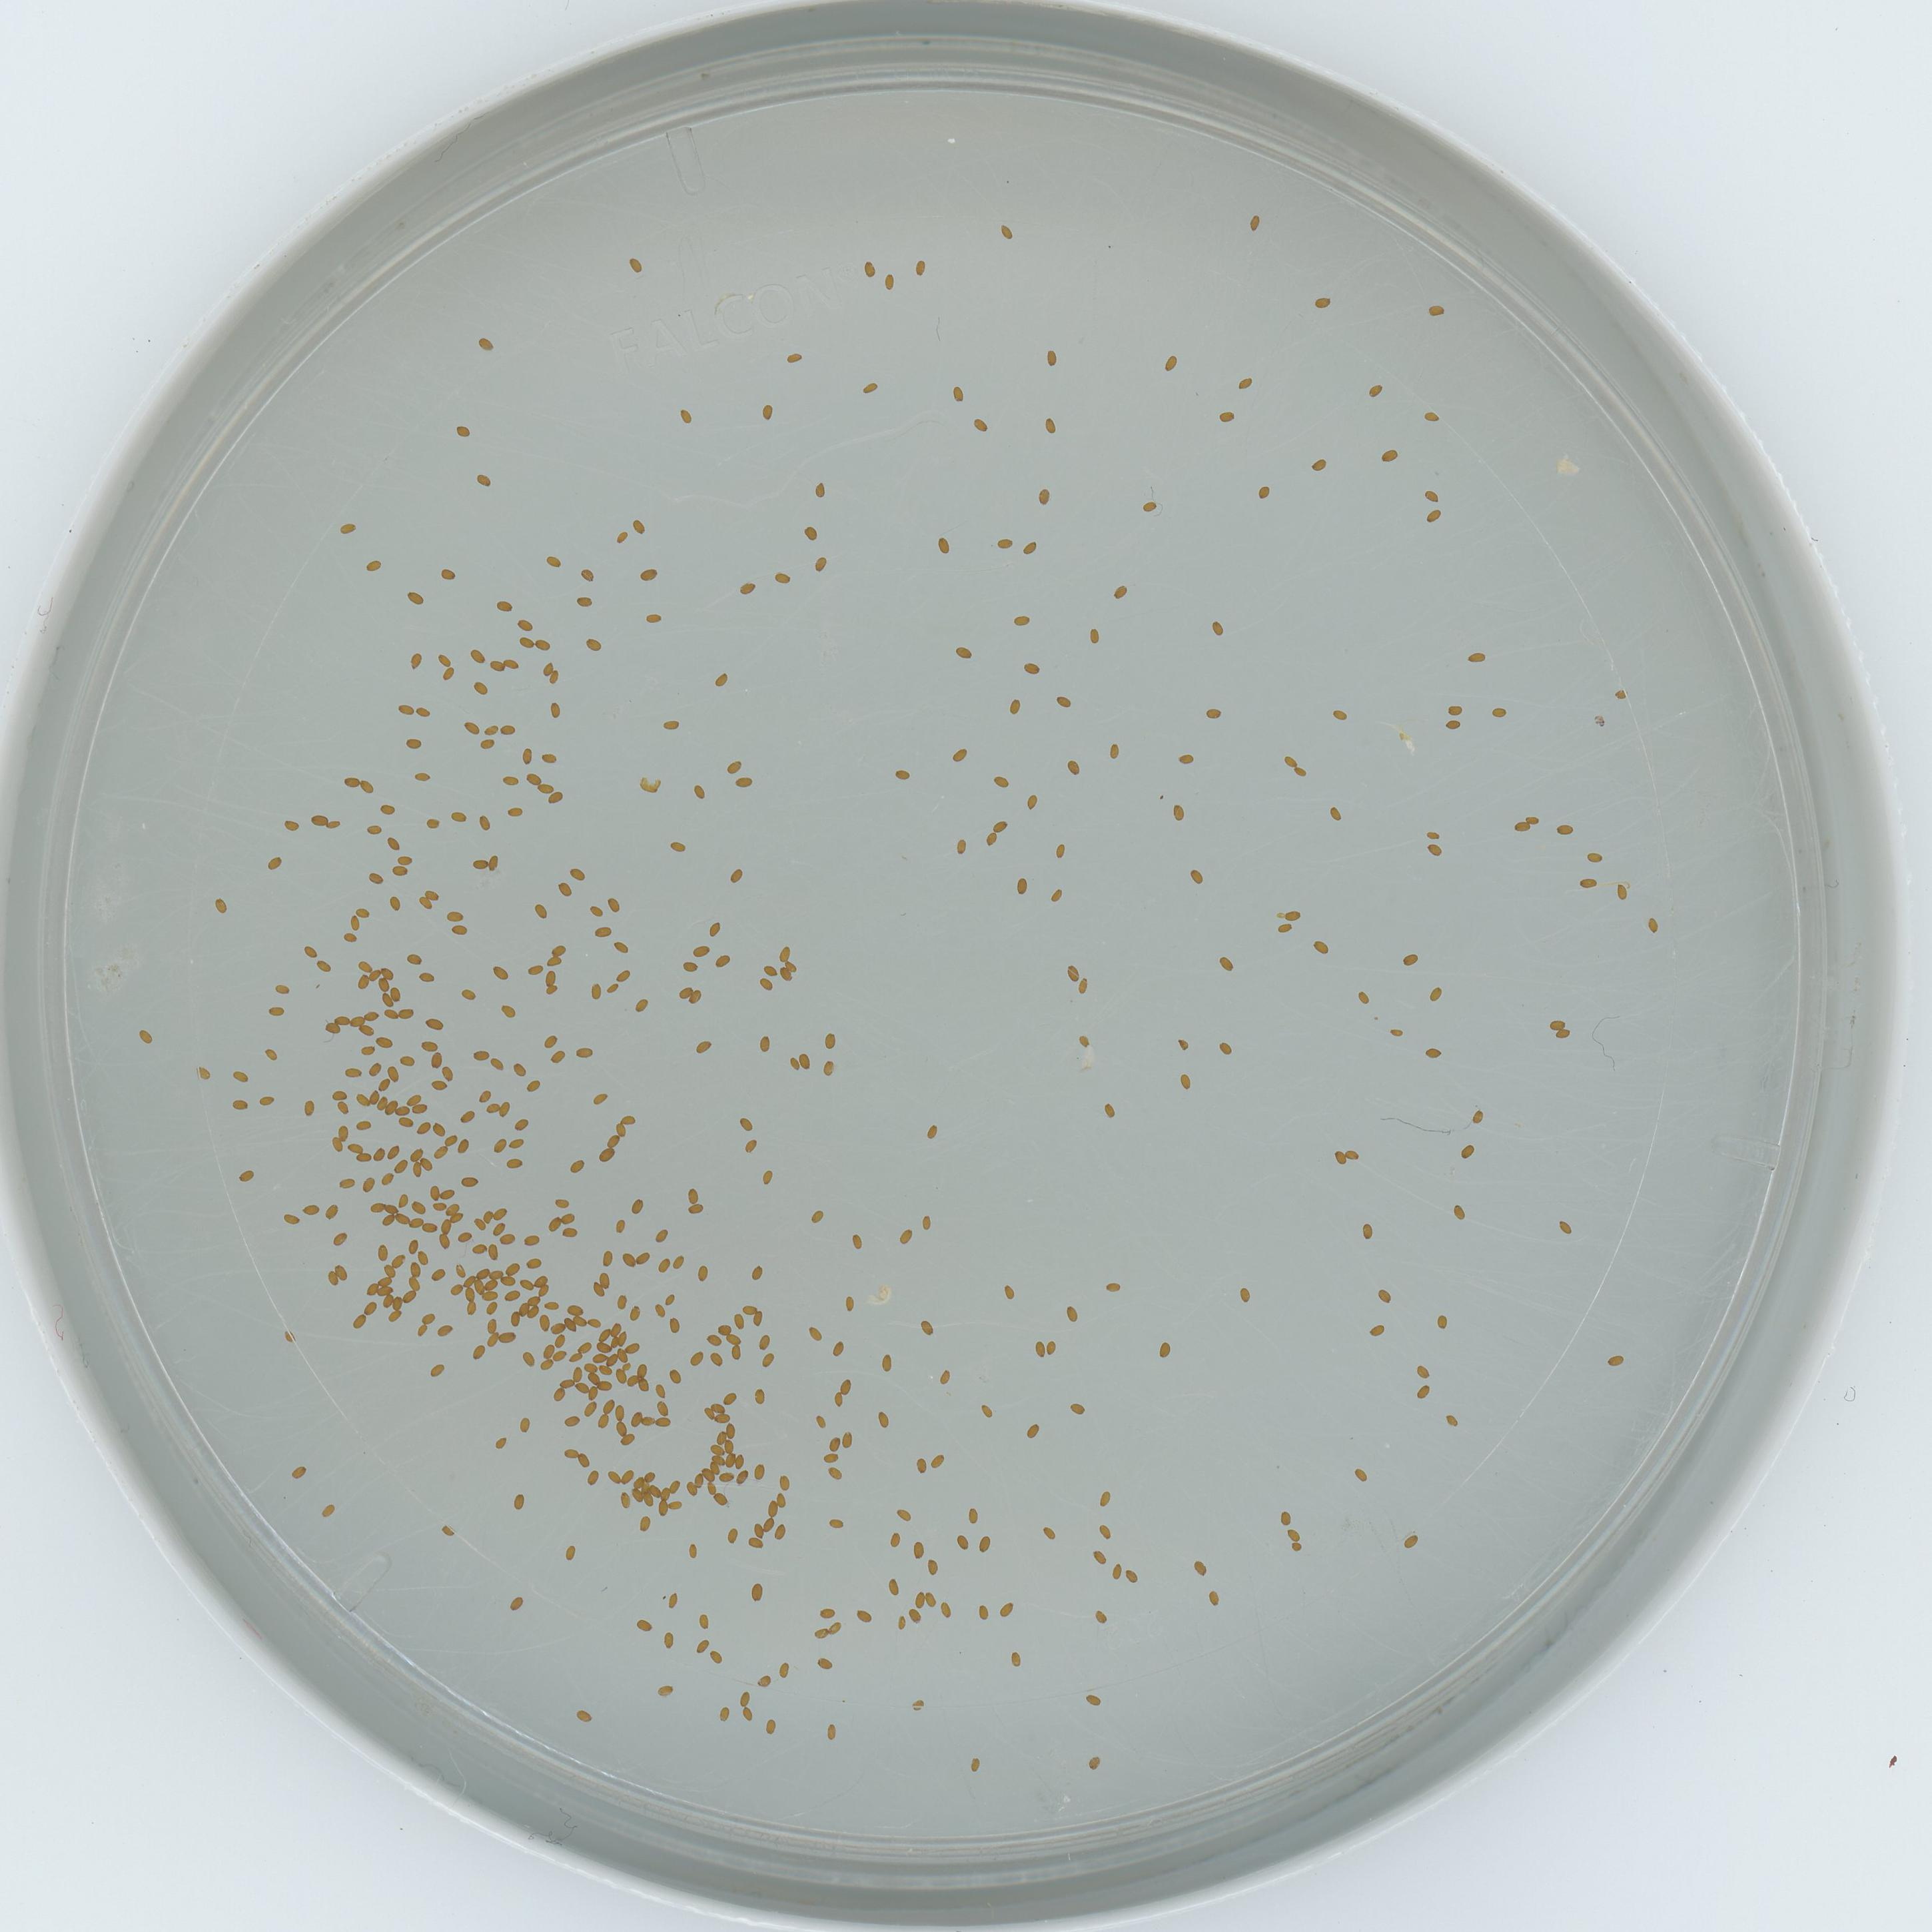seed: (747, 1580, 768, 1601), (1357, 1219, 1376, 1242), (1214, 954, 1237, 971), (483, 1299, 502, 1318), (1311, 936, 1330, 955), (973, 1532, 993, 1552), (405, 587, 426, 605), (639, 564, 660, 582), (1449, 1201, 1467, 1223), (690, 941, 713, 957), (556, 881, 575, 899), (531, 902, 550, 920), (594, 922, 614, 939), (264, 855, 283, 872), (469, 1343, 487, 1362), (755, 1332, 775, 1350), (755, 1035, 775, 1053), (952, 1532, 970, 1552), (1578, 874, 1598, 892), (1247, 212, 1265, 232), (1433, 1311, 1453, 1329), (1090, 1546, 1108, 1566), (313, 957, 334, 973), (879, 1352, 895, 1373), (740, 1299, 761, 1315), (334, 1261, 349, 1284), (518, 747, 536, 764), (515, 616, 533, 633), (495, 596, 513, 614), (934, 536, 952, 554), (364, 556, 382, 573), (605, 895, 623, 913), (547, 701, 564, 718), (759, 402, 777, 419), (446, 906, 464, 924), (575, 593, 593, 610), (384, 835, 402, 853), (499, 1327, 517, 1345), (554, 1192, 571, 1210), (513, 1113, 531, 1131), (717, 1706, 734, 1723), (345, 1062, 363, 1079), (373, 1242, 391, 1260), (517, 1415, 534, 1433), (510, 1491, 527, 1509), (584, 1468, 602, 1486), (886, 1576, 904, 1594), (807, 1323, 824, 1341), (522, 1230, 540, 1247), (849, 1231, 867, 1249), (830, 1391, 847, 1408), (568, 1155, 586, 1173), (476, 1085, 494, 1102), (660, 1631, 678, 1649), (561, 1543, 579, 1560), (428, 1361, 446, 1378), (653, 1398, 671, 1415), (695, 1612, 713, 1629), (628, 1196, 646, 1214), (419, 1219, 437, 1237), (499, 1230, 517, 1247), (1401, 948, 1419, 966), (1012, 878, 1030, 895), (1161, 354, 1178, 372), (1424, 506, 1442, 524), (1109, 582, 1127, 600), (1458, 1139, 1476, 1157), (1415, 1382, 1433, 1399), (1093, 1522, 1111, 1539), (1205, 1591, 1223, 1608), (996, 1599, 1014, 1617), (1062, 1304, 1079, 1322), (1093, 1490, 1111, 1507), (1612, 685, 1629, 702), (1422, 407, 1440, 425), (386, 895, 405, 911), (469, 649, 488, 665), (524, 771, 543, 787), (462, 720, 481, 736), (612, 938, 632, 954), (801, 524, 821, 540), (690, 784, 709, 800), (340, 931, 359, 947), (550, 939, 570, 955), (308, 812, 327, 828), (471, 679, 490, 695), (899, 1226, 915, 1246), (460, 1171, 479, 1187), (909, 1541, 929, 1557), (469, 1240, 488, 1256), (855, 1606, 874, 1622), (510, 1060, 529, 1076), (589, 982, 605, 1001), (566, 1299, 586, 1315), (428, 1076, 448, 1092), (575, 1707, 594, 1723), (823, 1031, 839, 1051), (428, 1049, 444, 1069), (386, 1063, 402, 1083), (1039, 416, 1058, 432), (1606, 1350, 1626, 1366), (1177, 1072, 1192, 1092), (881, 271, 895, 292), (407, 651, 421, 672), (1021, 662, 1042, 676), (405, 734, 423, 750), (911, 258, 927, 276), (568, 867, 586, 883), (814, 556, 832, 571), (338, 520, 356, 536), (862, 260, 878, 278), (212, 897, 230, 913), (476, 472, 494, 488), (630, 517, 648, 533), (502, 773, 520, 789), (775, 570, 793, 586), (439, 667, 456, 683), (628, 257, 646, 272), (439, 566, 456, 582), (706, 920, 724, 936), (740, 580, 757, 596), (471, 856, 488, 872), (478, 738, 495, 754), (396, 702, 414, 718), (586, 637, 603, 653), (499, 722, 517, 738), (476, 816, 494, 832), (508, 803, 524, 821), (545, 554, 563, 570), (547, 791, 564, 807), (736, 775, 754, 791), (423, 816, 441, 832), (453, 423, 471, 439), (862, 379, 879, 395), (517, 635, 534, 651), (777, 945, 793, 962), (481, 722, 499, 738), (812, 481, 830, 497), (379, 801, 396, 817), (524, 1254, 541, 1270), (619, 1251, 637, 1267), (598, 1146, 616, 1162), (575, 1042, 593, 1058), (895, 1506, 911, 1523), (435, 1233, 453, 1249), (472, 1044, 490, 1060), (826, 1435, 842, 1453), (704, 1332, 722, 1348), (267, 1003, 285, 1019), (510, 1594, 525, 1612), (435, 1322, 453, 1338), (667, 1368, 685, 1384), (366, 1062, 384, 1077), (334, 1099, 352, 1115), (888, 1530, 904, 1548), (708, 1649, 725, 1665), (506, 1155, 524, 1171), (237, 1166, 255, 1182), (775, 1661, 793, 1677), (419, 1035, 437, 1051), (688, 1350, 706, 1366), (763, 1720, 780, 1736), (414, 1118, 432, 1134), (331, 1085, 349, 1100), (582, 1401, 600, 1417), (257, 1090, 274, 1106), (635, 1617, 653, 1633), (819, 1605, 837, 1621), (817, 1654, 833, 1672), (548, 1047, 566, 1063), (561, 1444, 579, 1460), (301, 1201, 318, 1217), (878, 1410, 893, 1428), (375, 1031, 393, 1047), (936, 1368, 954, 1384), (695, 1037, 713, 1053), (929, 1453, 947, 1468), (375, 1074, 391, 1092), (354, 1116, 372, 1132), (439, 1063, 456, 1079), (656, 1256, 672, 1274), (488, 1054, 506, 1070), (425, 1014, 442, 1030), (492, 966, 510, 982), (232, 1065, 248, 1083), (455, 1228, 472, 1244), (402, 1290, 419, 1306), (663, 1592, 681, 1608), (632, 996, 649, 1012), (458, 1106, 476, 1122), (665, 1316, 683, 1332), (524, 1076, 541, 1092), (924, 1557, 939, 1575), (361, 1177, 379, 1192), (637, 1514, 653, 1532), (713, 1491, 731, 1507), (656, 1683, 674, 1698), (752, 1387, 770, 1403), (695, 1263, 711, 1281), (361, 1299, 379, 1315), (398, 1051, 416, 1067), (686, 1201, 704, 1217), (832, 1339, 847, 1357), (136, 1026, 154, 1042), (331, 1228, 349, 1244), (403, 1238, 421, 1254), (605, 1468, 623, 1484), (918, 1316, 936, 1332), (462, 1300, 479, 1316), (1445, 702, 1463, 718), (1380, 446, 1398, 462), (1422, 488, 1440, 504), (991, 817, 1008, 833), (1012, 612, 1030, 628), (1049, 844, 1067, 860), (1187, 870, 1205, 886), (1555, 821, 1573, 837), (1203, 704, 1221, 720), (1168, 805, 1185, 821), (991, 775, 1008, 791), (1063, 759, 1081, 775), (1217, 407, 1235, 423), (1490, 704, 1507, 720), (1104, 743, 1122, 759), (1325, 805, 1343, 821), (1085, 628, 1100, 646), (1237, 373, 1253, 391), (1042, 349, 1058, 366), (1366, 380, 1384, 396), (1313, 294, 1330, 310), (1021, 540, 1037, 557), (1122, 1568, 1139, 1583), (1403, 1532, 1419, 1550), (1414, 1362, 1431, 1378), (1235, 1286, 1253, 1302), (978, 1403, 996, 1419), (1155, 1341, 1173, 1357), (1008, 1651, 1024, 1668), (1276, 1509, 1293, 1525), (1387, 1023, 1405, 1039), (1000, 1283, 1017, 1299), (1106, 1564, 1122, 1582), (1376, 1286, 1392, 1304), (1039, 1525, 1056, 1541), (1173, 1037, 1191, 1053), (821, 1060, 837, 1077), (441, 1522, 458, 1537), (752, 1461, 766, 1481), (525, 1304, 540, 1323), (732, 1311, 747, 1330), (416, 704, 432, 720), (713, 672, 729, 688), (366, 872, 382, 888), (663, 717, 679, 732), (359, 780, 375, 796), (729, 869, 745, 885), (283, 819, 299, 835), (646, 609, 662, 625), (950, 747, 966, 763), (727, 759, 743, 775), (895, 766, 911, 782), (437, 651, 453, 667), (950, 386, 966, 402), (787, 349, 803, 364), (354, 904, 370, 920), (580, 566, 596, 582), (715, 952, 731, 968), (541, 750, 557, 766), (478, 334, 494, 350), (671, 839, 686, 855), (955, 646, 971, 662), (366, 823, 382, 839), (345, 915, 361, 931), (326, 817, 341, 833), (494, 1433, 510, 1449), (359, 1040, 375, 1056), (759, 1674, 775, 1690), (368, 1198, 384, 1214), (232, 1095, 248, 1111), (487, 1244, 502, 1260), (685, 1187, 701, 1203), (292, 1463, 308, 1479), (501, 1001, 517, 1017), (777, 1474, 793, 1490), (510, 1134, 525, 1150), (272, 980, 288, 996), (338, 1173, 354, 1189), (842, 1431, 858, 1447), (842, 1295, 858, 1311), (354, 973, 370, 989), (908, 1608, 924, 1624), (543, 1295, 559, 1311), (485, 1316, 501, 1332), (722, 1389, 738, 1405), (577, 1453, 593, 1468), (938, 1601, 954, 1617), (494, 1203, 510, 1219), (283, 1208, 299, 1224), (653, 1302, 669, 1318), (545, 1214, 561, 1230), (561, 1208, 577, 1224), (564, 1412, 580, 1428), (814, 1414, 830, 1430), (492, 1221, 508, 1237), (614, 1293, 630, 1309), (563, 1224, 579, 1240), (324, 1203, 340, 1219), (725, 1527, 741, 1543), (918, 1214, 934, 1230), (485, 1100, 501, 1116), (893, 1615, 909, 1631), (828, 1465, 844, 1481), (823, 1449, 839, 1465), (196, 1063, 212, 1079), (600, 1249, 616, 1265), (395, 1191, 410, 1207), (635, 1361, 651, 1376), (740, 1707, 755, 1723), (492, 1138, 508, 1154), (828, 1516, 844, 1532), (672, 1253, 688, 1269), (301, 1099, 317, 1115), (589, 1283, 605, 1299), (619, 1468, 635, 1484), (729, 1346, 745, 1362), (718, 1468, 734, 1484), (612, 1217, 628, 1233), (913, 1456, 929, 1472), (327, 1136, 343, 1152), (736, 1691, 752, 1707), (410, 1198, 426, 1214), (587, 1313, 603, 1329), (798, 1053, 814, 1069), (750, 1265, 766, 1281), (738, 1115, 754, 1131), (761, 1352, 777, 1368), (826, 1725, 842, 1741), (350, 1313, 366, 1329), (543, 982, 559, 998), (540, 1343, 556, 1359), (616, 1491, 632, 1507), (380, 966, 396, 982), (456, 1138, 472, 1154), (709, 1350, 725, 1366), (924, 1122, 939, 1138), (471, 1217, 487, 1233), (771, 1525, 787, 1541), (810, 1207, 826, 1223), (656, 1414, 672, 1430), (483, 1332, 499, 1348), (536, 1315, 552, 1330), (497, 1100, 513, 1116), (391, 1253, 407, 1269), (564, 1316, 580, 1332), (407, 1276, 423, 1292), (701, 1467, 717, 1483), (405, 1090, 421, 1106), (1284, 906, 1300, 922), (1645, 916, 1661, 932), (1007, 699, 1023, 715), (1033, 488, 1049, 504), (1054, 694, 1070, 709), (1208, 621, 1224, 637), (1177, 750, 1192, 766), (1614, 885, 1629, 901), (1468, 648, 1484, 663), (1023, 794, 1039, 810), (982, 832, 998, 847), (1047, 888, 1063, 904), (998, 223, 1014, 239), (1368, 1320, 1384, 1336), (1063, 966, 1079, 982), (1470, 1106, 1486, 1122), (1557, 1219, 1573, 1235), (1023, 1422, 1039, 1438), (1031, 1341, 1047, 1357), (1428, 987, 1444, 1003), (1067, 1399, 1083, 1415), (1192, 1560, 1208, 1576), (975, 1603, 991, 1619), (1100, 1100, 1116, 1116), (1345, 1145, 1361, 1161), (1085, 1755, 1100, 1771), (1104, 1277, 1120, 1293), (1424, 1044, 1440, 1060), (1217, 1039, 1233, 1054), (911, 1695, 927, 1711), (283, 1330, 299, 1346), (587, 904, 605, 918), (405, 950, 423, 964), (487, 855, 501, 872), (449, 810, 467, 824), (451, 922, 469, 936), (488, 660, 506, 674), (694, 1638, 711, 1652), (761, 1168, 775, 1185), (913, 1591, 927, 1608), (432, 1120, 446, 1138), (262, 1046, 280, 1060), (357, 1023, 375, 1037), (653, 1228, 671, 1242), (432, 1265, 446, 1283), (747, 1537, 764, 1552), (333, 1010, 350, 1024), (363, 1007, 380, 1021), (336, 1123, 350, 1141), (419, 1155, 433, 1173), (525, 962, 543, 977), (389, 985, 403, 1003), (839, 1376, 853, 1394), (410, 1099, 428, 1113), (628, 1304, 642, 1322), (766, 1500, 780, 1518), (395, 1102, 412, 1116), (616, 1122, 630, 1139), (1587, 851, 1605, 865), (1444, 718, 1461, 732), (1426, 844, 1444, 858), (1139, 499, 1157, 513), (996, 536, 1014, 550), (971, 418, 989, 432), (1274, 920, 1292, 934), (1353, 989, 1371, 1003), (1083, 1693, 1100, 1707), (453, 1260, 467, 1277), (545, 955, 564, 968), (303, 943, 318, 957), (534, 637, 550, 651), (343, 775, 359, 789), (414, 770, 430, 784), (391, 867, 412, 878), (396, 853, 412, 867), (952, 839, 966, 855), (678, 409, 694, 423), (504, 656, 520, 671), (460, 987, 476, 1001), (426, 1185, 441, 1201), (421, 1309, 437, 1323), (504, 1261, 520, 1276), (540, 1359, 556, 1373), (520, 1352, 536, 1366), (396, 1116, 412, 1131), (419, 970, 435, 984), (734, 1470, 750, 1484), (685, 1543, 701, 1557), (400, 1005, 416, 1019), (663, 1290, 679, 1304), (725, 1332, 741, 1346), (678, 984, 692, 1000), (596, 1414, 610, 1430), (605, 980, 621, 994), (379, 1171, 395, 1185), (743, 1138, 759, 1152), (616, 968, 632, 982), (626, 1339, 642, 1353), (607, 1132, 623, 1146), (418, 1249, 432, 1265), (669, 1497, 683, 1513), (391, 1159, 407, 1173), (761, 1518, 775, 1534), (925, 1591, 939, 1606), (380, 1261, 396, 1276), (356, 1150, 372, 1164), (379, 1214, 395, 1228), (600, 1270, 614, 1286), (389, 1143, 405, 1157), (379, 993, 395, 1007), (717, 1322, 732, 1336), (621, 1109, 637, 1123), (543, 1033, 559, 1047), (752, 1311, 766, 1327), (370, 1146, 386, 1161), (442, 1131, 458, 1145), (441, 1184, 456, 1198), (653, 1384, 669, 1398), (320, 1502, 336, 1516), (591, 1090, 607, 1104), (504, 1286, 520, 1300), (550, 1387, 566, 1401), (380, 1007, 396, 1021), (568, 1350, 584, 1364), (669, 1477, 683, 1493), (702, 1483, 718, 1497), (412, 1323, 428, 1338), (586, 1385, 602, 1399), (577, 1339, 593, 1353), (386, 1309, 402, 1323), (407, 1215, 423, 1230), (626, 1412, 642, 1426), (685, 1479, 699, 1495), (324, 1270, 338, 1286), (363, 1281, 379, 1295), (778, 968, 794, 982), (640, 1414, 656, 1428), (637, 1378, 653, 1392), (349, 1014, 364, 1028), (375, 977, 391, 991), (786, 1054, 800, 1070), (464, 1286, 478, 1302), (713, 1430, 727, 1445), (1424, 828, 1440, 842), (1527, 812, 1543, 826), (1330, 708, 1346, 722), (1311, 456, 1327, 471), (1256, 485, 1270, 501), (1514, 821, 1530, 835), (1281, 754, 1297, 768), (1428, 301, 1444, 315), (1042, 1339, 1056, 1355), (1330, 1148, 1346, 1162), (1284, 1527, 1300, 1541), (1076, 977, 1090, 993), (1092, 1610, 1108, 1624), (1353, 1467, 1369, 1481), (1074, 1033, 1090, 1047), (966, 1509, 980, 1525), (968, 1757, 982, 1773), (1444, 1412, 1460, 1426), (812, 1626, 828, 1640), (828, 1621, 842, 1637), (391, 1293, 405, 1309), (425, 888, 442, 901), (536, 782, 554, 794), (777, 1491, 789, 1509), (616, 1419, 628, 1437), (708, 1401, 725, 1414), (614, 1403, 626, 1421), (548, 1322, 566, 1334), (660, 1486, 672, 1504), (708, 1444, 725, 1456), (1548, 1016, 1566, 1028), (1553, 1026, 1571, 1039), (472, 1277, 485, 1295), (614, 529, 628, 543), (540, 662, 554, 676), (637, 1249, 651, 1263), (448, 1281, 462, 1295), (761, 977, 775, 991), (690, 989, 704, 1003), (543, 971, 557, 985), (433, 1145, 448, 1159), (554, 1332, 568, 1346), (534, 1272, 548, 1286), (655, 1502, 669, 1516), (354, 1092, 368, 1106), (724, 1424, 738, 1438), (409, 1146, 423, 1161), (724, 1438, 738, 1453), (570, 1368, 584, 1382), (752, 1523, 766, 1537), (614, 1369, 628, 1384), (446, 1201, 460, 1215), (617, 1350, 632, 1364), (416, 897, 432, 909), (324, 1021, 340, 1033), (430, 1200, 446, 1212), (734, 1453, 747, 1468), (501, 1274, 517, 1286), (508, 1311, 520, 1327), (596, 1327, 612, 1339), (382, 1201, 398, 1214), (683, 962, 699, 975), (575, 1380, 591, 1392), (621, 1433, 637, 1445), (594, 1341, 610, 1353), (586, 1371, 602, 1384), (368, 1090, 380, 1106), (536, 1284, 552, 1297), (474, 1265, 490, 1277), (630, 1490, 642, 1506), (382, 1293, 395, 1309), (357, 961, 373, 973), (1288, 1541, 1304, 1553), (649, 1484, 662, 1500), (377, 1095, 389, 1111), (345, 1145, 366, 1154), (386, 1099, 396, 1116), (548, 672, 563, 685), (395, 1212, 409, 1224), (559, 1376, 573, 1389), (441, 1219, 453, 1233), (520, 1279, 534, 1292), (625, 1373, 637, 1387), (610, 1322, 623, 1336), (598, 1364, 612, 1376), (552, 1350, 566, 1362), (584, 1361, 598, 1373), (527, 1293, 541, 1306), (602, 1399, 614, 1414), (449, 1212, 464, 1224), (483, 1290, 497, 1302), (593, 1350, 607, 1362), (573, 1315, 587, 1327), (616, 1332, 628, 1346), (1292, 766, 1306, 778), (784, 961, 798, 973), (709, 1461, 722, 1476), (711, 1454, 725, 1467), (377, 1277, 396, 1286), (410, 1261, 421, 1277), (763, 966, 778, 977), (715, 1412, 731, 1422), (642, 1491, 653, 1507), (633, 1476, 644, 1491), (725, 1453, 736, 1468), (377, 1286, 395, 1295), (410, 1164, 423, 1177), (702, 1407, 715, 1419), (642, 1470, 656, 1481), (694, 1474, 704, 1488), (483, 1208, 494, 1223), (370, 968, 380, 982), (607, 1353, 617, 1368), (518, 1304, 529, 1318), (483, 1281, 499, 1290), (600, 1380, 612, 1391), (642, 1483, 651, 1497), (464, 1276, 472, 1288), (490, 1270, 502, 1279), (610, 1336, 617, 1350), (621, 1362, 632, 1371)
